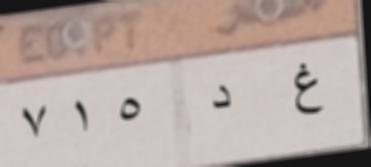1: (72, 92, 94, 138)
5: (112, 90, 145, 128)
7: (20, 102, 52, 144)
daal: (206, 76, 238, 122)
ghayn: (290, 57, 324, 120)
